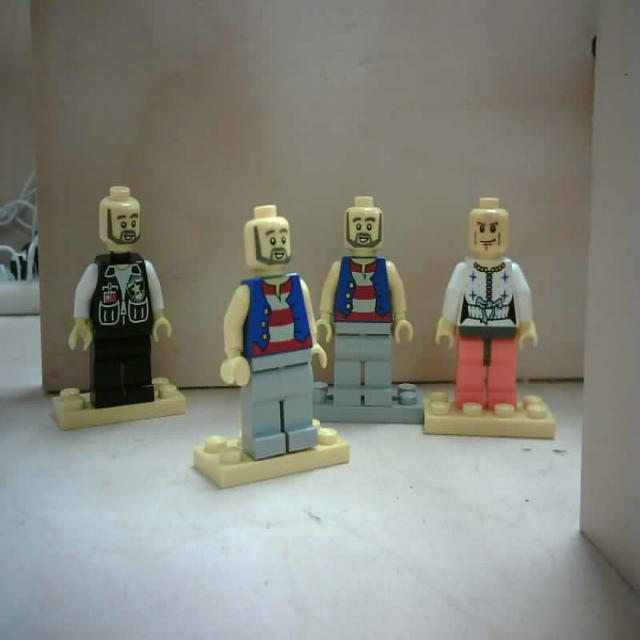Lego-People: (218, 205, 331, 465), (66, 178, 173, 412), (436, 193, 536, 416), (317, 194, 417, 413)
